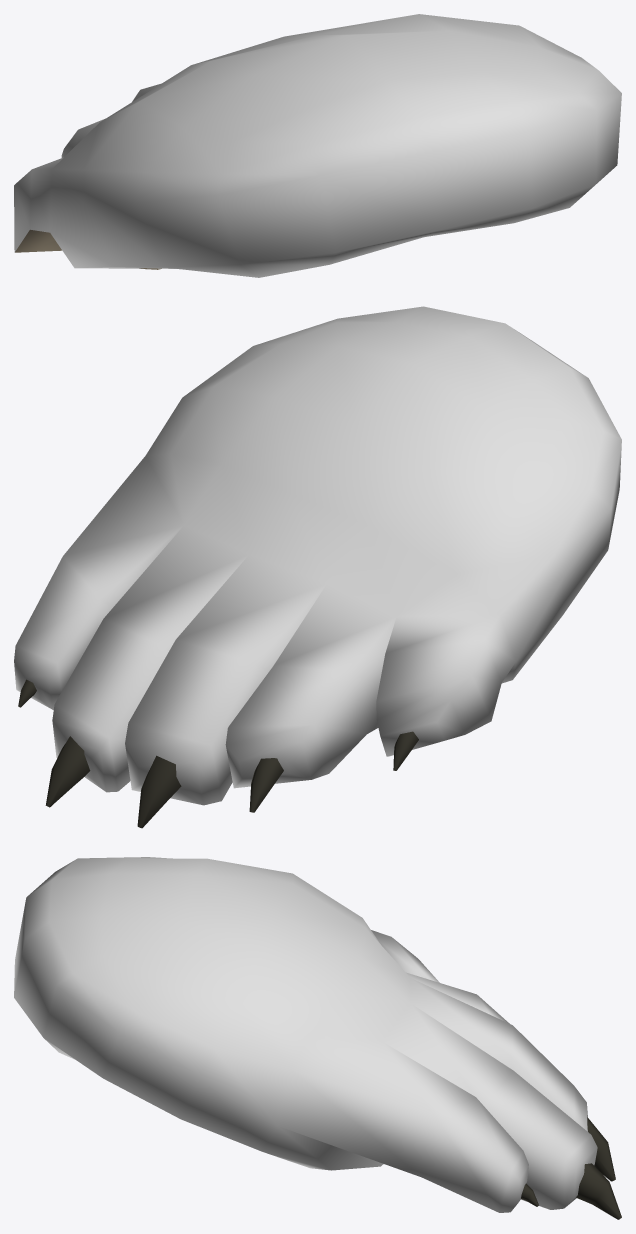
The model's file is PataDeUrso.fbx.
3 renders of one model, top to bottom at view 1: azimuth 30°, elevation 25°; view 2: azimuth 150°, elevation 25°; view 3: azimuth 270°, elevation 25°, orthographic. The views are drawn at different scales.
Visible parts, largest first — view 1: PataDeUrso; view 2: PataDeUrso; view 3: PataDeUrso.
Part boxes in pixels (box(x1,y1,x2,y2)): PataDeUrso: box(14, 14, 621, 277); PataDeUrso: box(14, 306, 621, 828); PataDeUrso: box(14, 857, 621, 1219).
Bounding box in the file's own units: 36.06 × 24.71 × 47.57.
